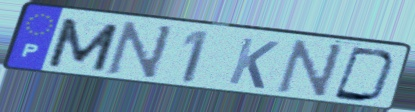1: (179, 28, 211, 85)
D: (330, 45, 400, 105)
K: (225, 36, 282, 92)
M: (43, 16, 123, 74)
N: (102, 20, 178, 83), (272, 38, 348, 101)
